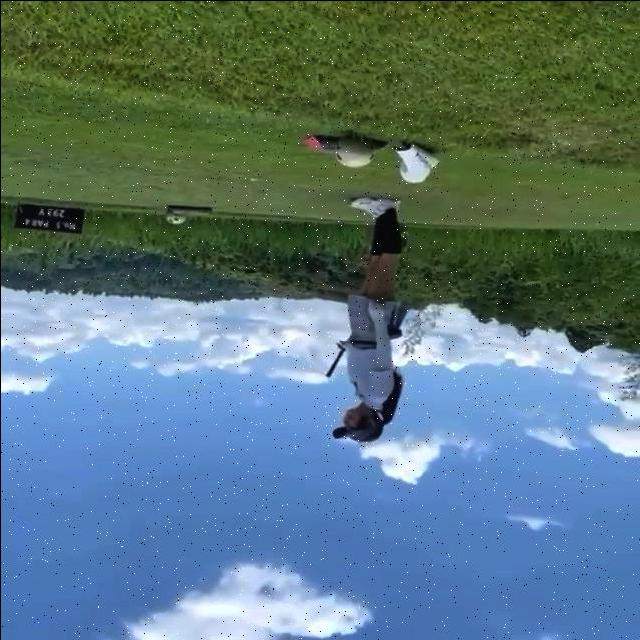ClubHandle: (325, 347, 343, 377)
